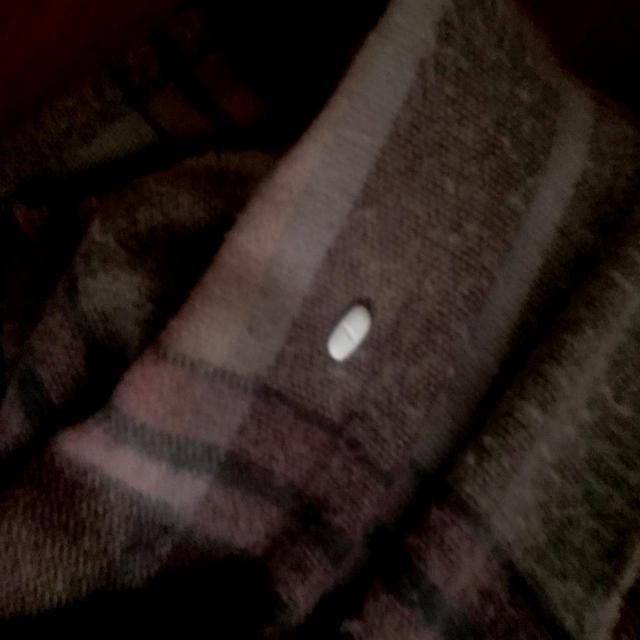pill: (325, 299, 373, 361)
